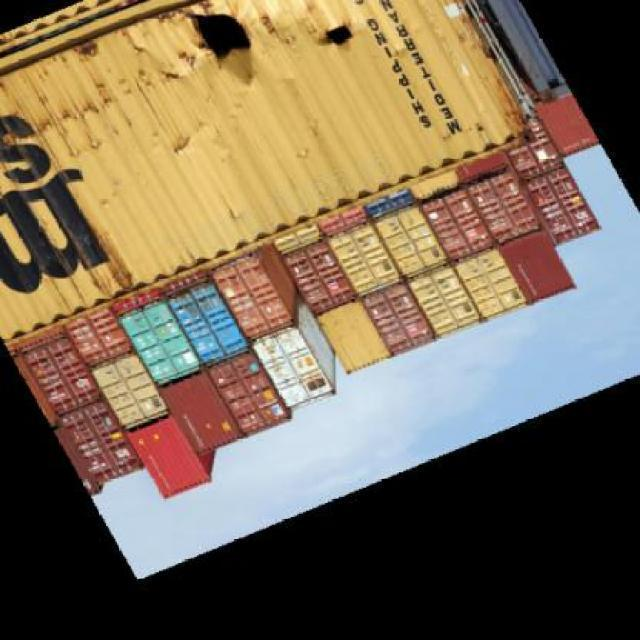Hole: (167, 2, 276, 88), (310, 12, 366, 52)
Rust: (1, 74, 157, 157)
